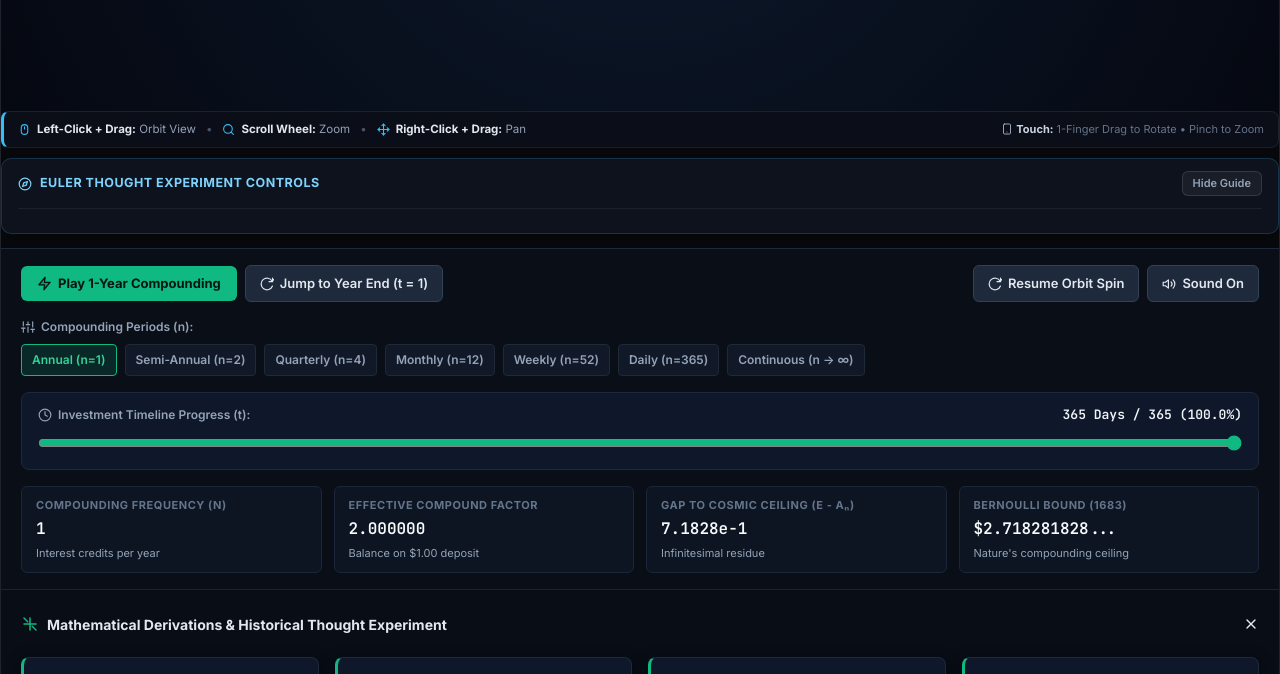
Test case: EulersNumber3DLab › allows switching between Bernoulli compounding presets
(page scrolled)
Click the button with test id "preset-semi": point(190, 360) [125,344,256,376]
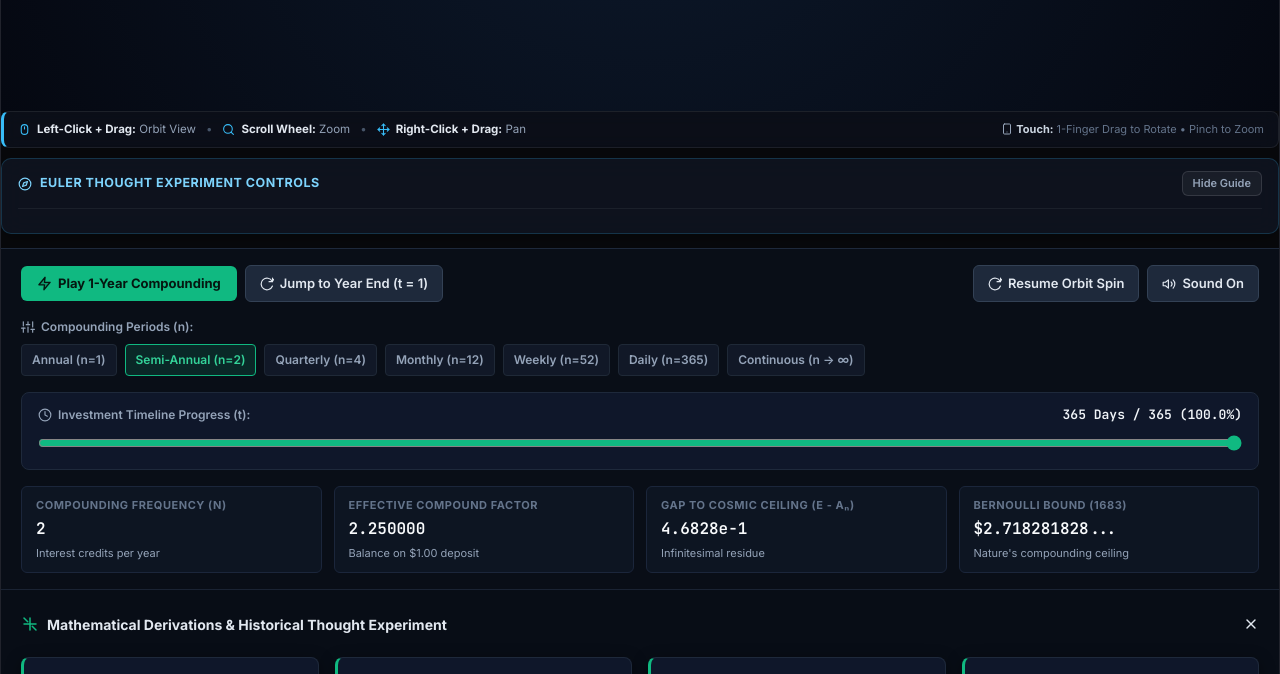
Click the button with test id "preset-month": point(440, 360) [385,344,495,376]
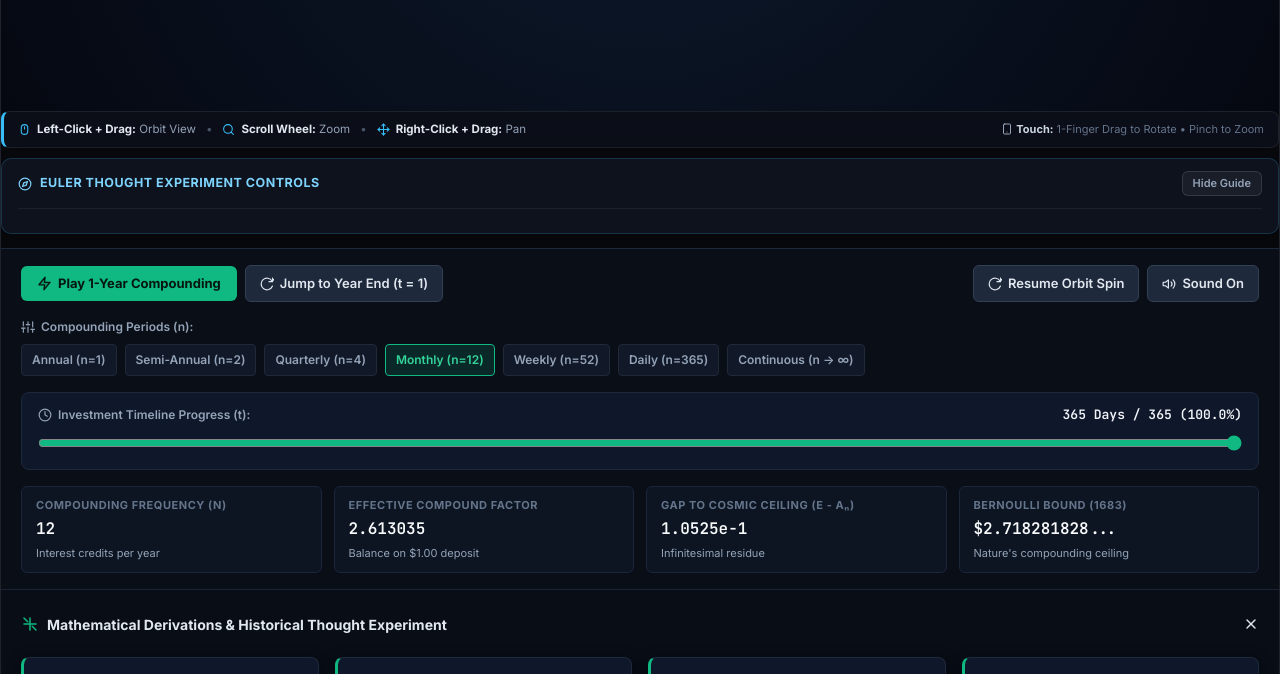
Click the button with test id "preset-day": point(669, 360) [618,344,719,376]
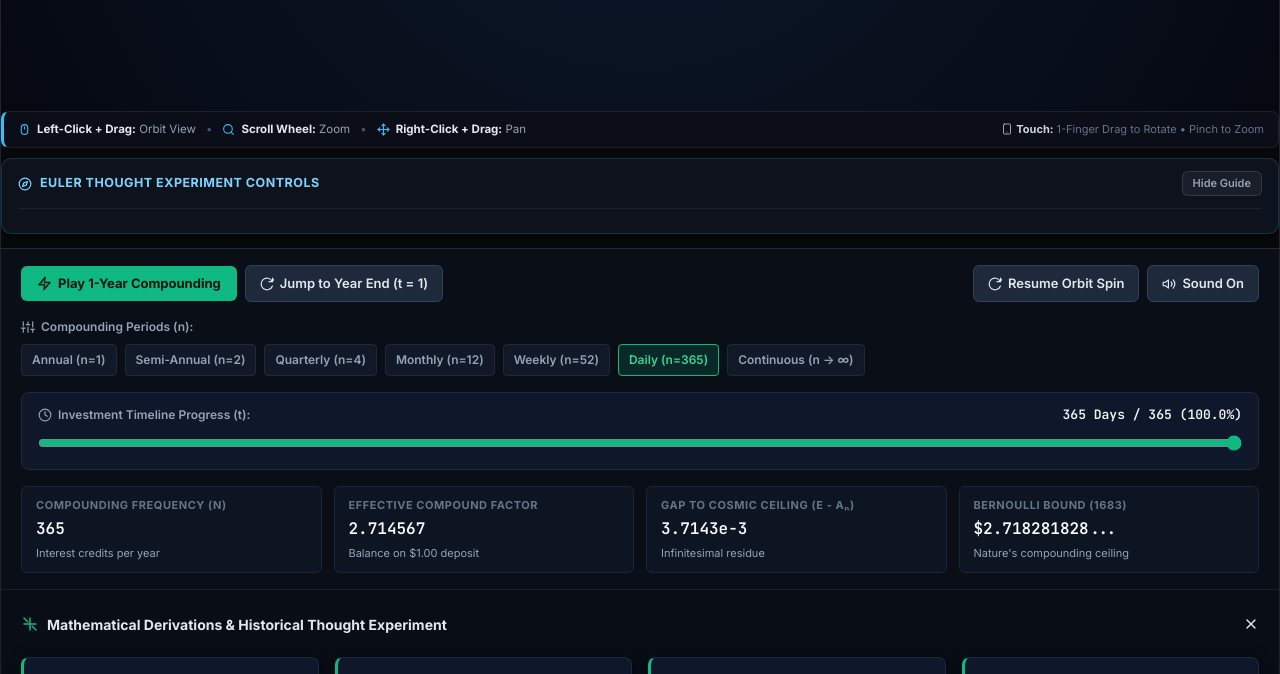
Click the button with test id "preset-infinity": point(796, 360) [727,344,865,376]
(page scrolled)
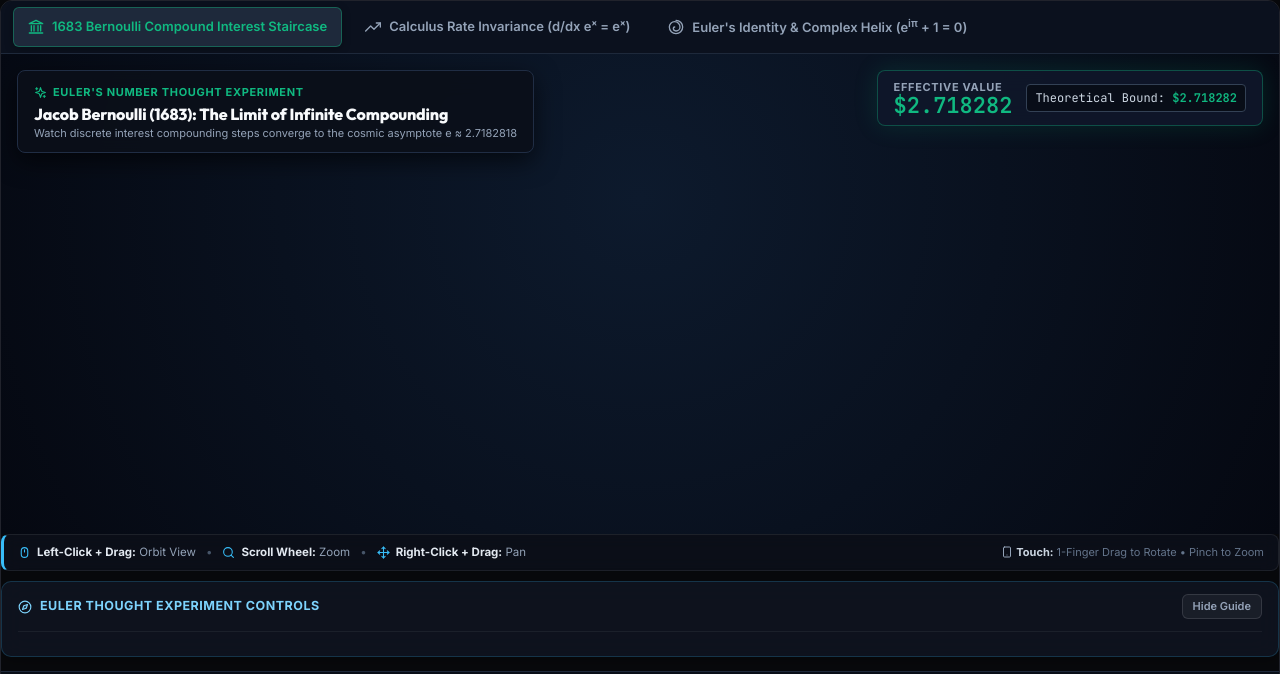
Result: the text with test id "euler-live-value" reads "$2.718282" at [894,91,1012,120]
